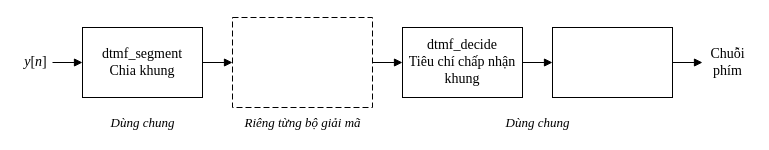
Some shapes in this 769 by 150 pixel diagram are drawn without their labels. Here are the shapes that lost their labels. From the top down, the centre of each, then its label:
At pixel 302 62: "Ước lượng phổ (FFT / Goertzel / ngân hàng lọc) và chuẩn hoá".
At pixel 612 62: "dtmf_debounce Gộp khung".
